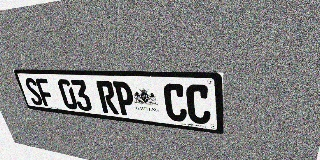0: (56, 79, 79, 110)
3: (70, 79, 93, 111)
C: (186, 84, 211, 125), (163, 83, 187, 122)
F: (34, 78, 56, 107)
P: (112, 81, 136, 116)
R: (96, 80, 119, 114)
S: (23, 78, 44, 106)
